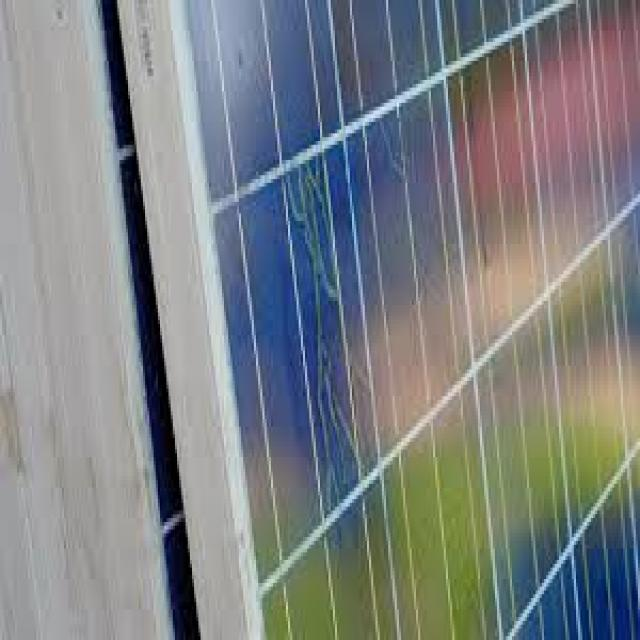faulty: (185, 4, 640, 640)
